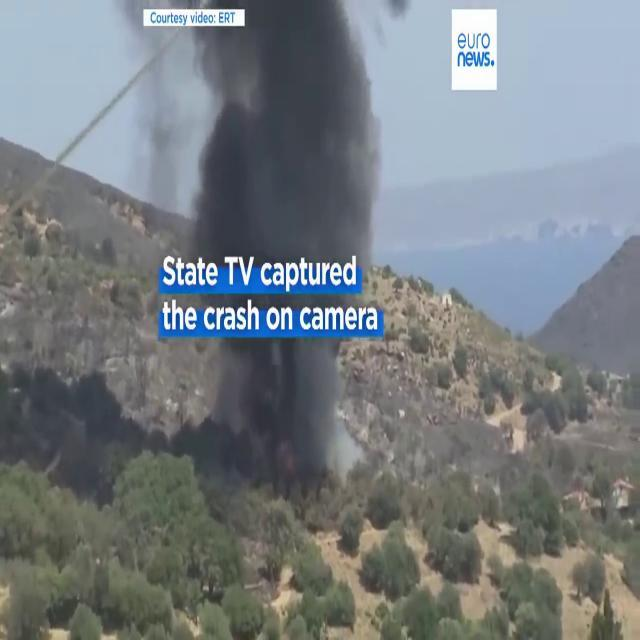Smoke: (156, 0, 386, 278), (203, 337, 369, 500)
